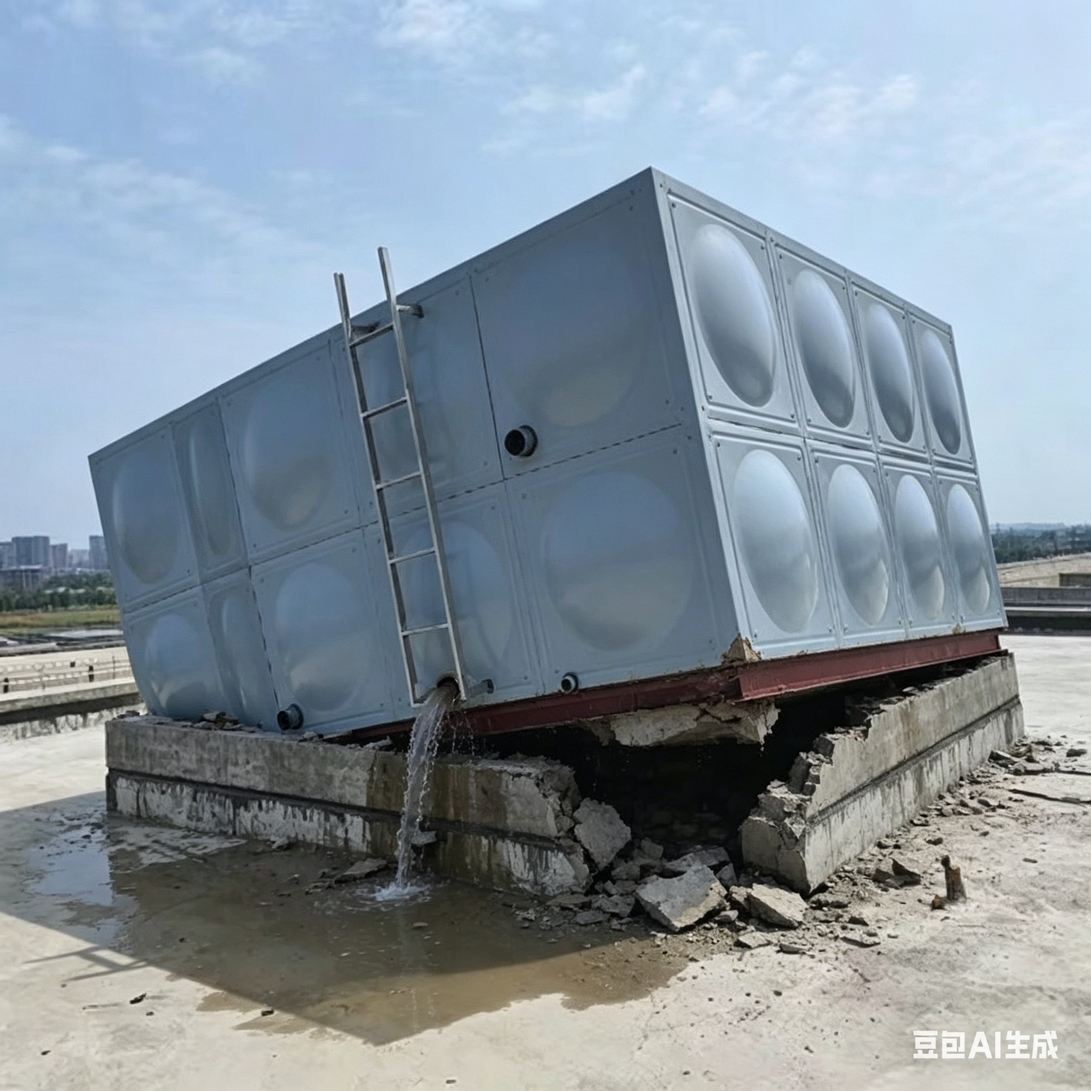Leakage: (44, 836, 363, 1007), (367, 927, 686, 1009), (373, 680, 463, 919)
